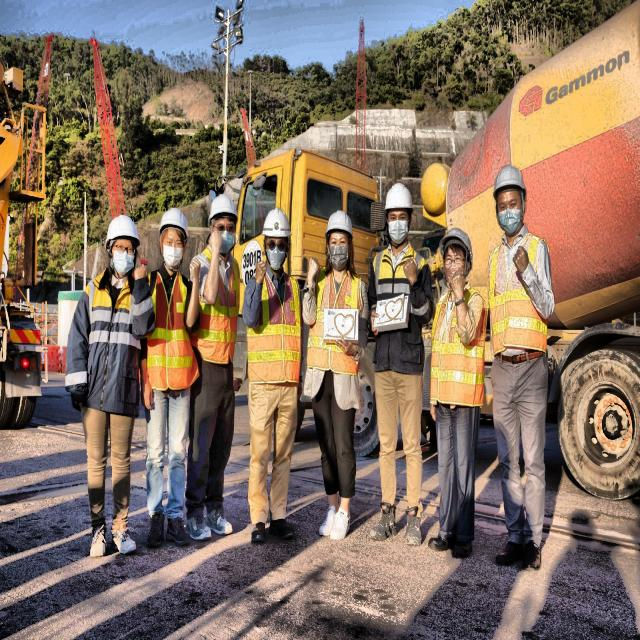safety_helmet: (437, 217, 478, 263), (491, 163, 528, 201), (386, 177, 418, 219), (158, 205, 191, 243), (206, 192, 240, 228), (105, 210, 136, 249), (260, 206, 293, 242), (323, 208, 355, 242)
safety_jacket: (486, 233, 554, 363), (366, 252, 431, 381), (84, 268, 142, 401), (304, 266, 371, 378), (426, 288, 485, 406), (146, 268, 198, 393), (247, 272, 299, 377), (193, 247, 237, 368)
